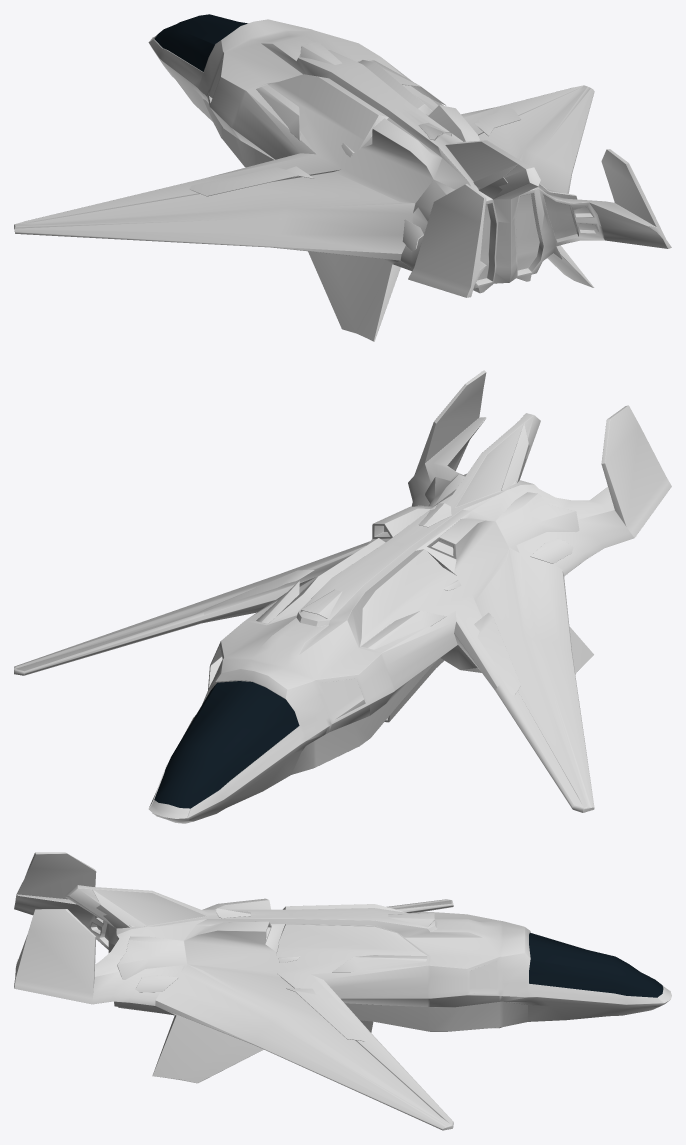
File: nave-modelo.fbx
3 renders of one model, top to bottom at view 1: azimuth 30°, elevation 25°; view 2: azimuth 150°, elevation 25°; view 3: azimuth 270°, elevation 25°, orthographic. The views are drawn at different scales.
Visible parts, largest first — view 1: Cube.009; view 2: Cube.009; view 3: Cube.009.
Part boxes in pixels (box(x1,y1,x2,y2)): Cube.009: box(14, 14, 671, 341); Cube.009: box(14, 370, 671, 823); Cube.009: box(14, 852, 671, 1130).
Bounding box in the file's own units: 1779 × 573 × 2161.
